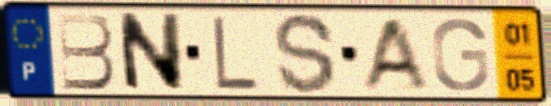A: (356, 15, 432, 93)
B: (55, 11, 119, 92)
G: (429, 16, 492, 94)
L: (209, 13, 261, 93)
N: (114, 11, 186, 94)
S: (271, 10, 339, 97)
